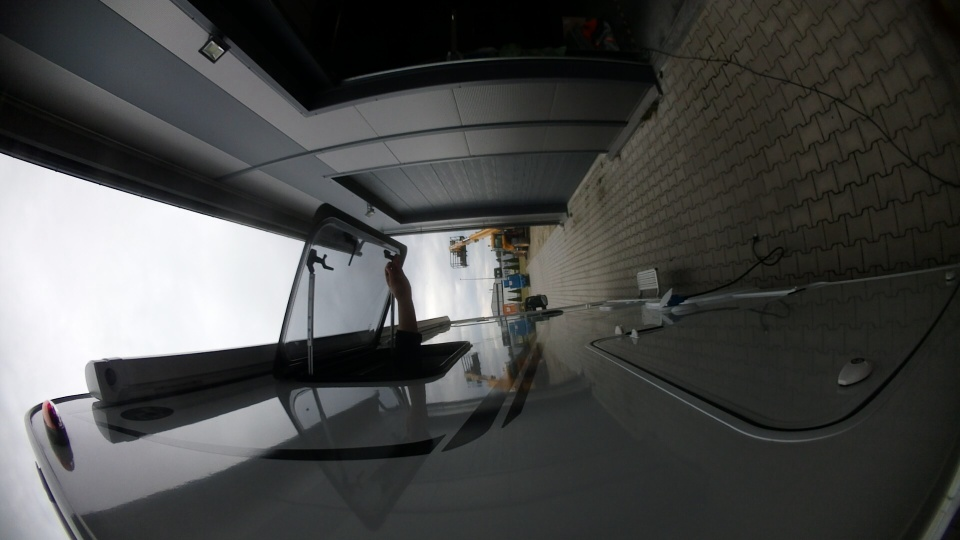step_back: (630, 264, 664, 296)
window_back: (269, 202, 463, 380)
